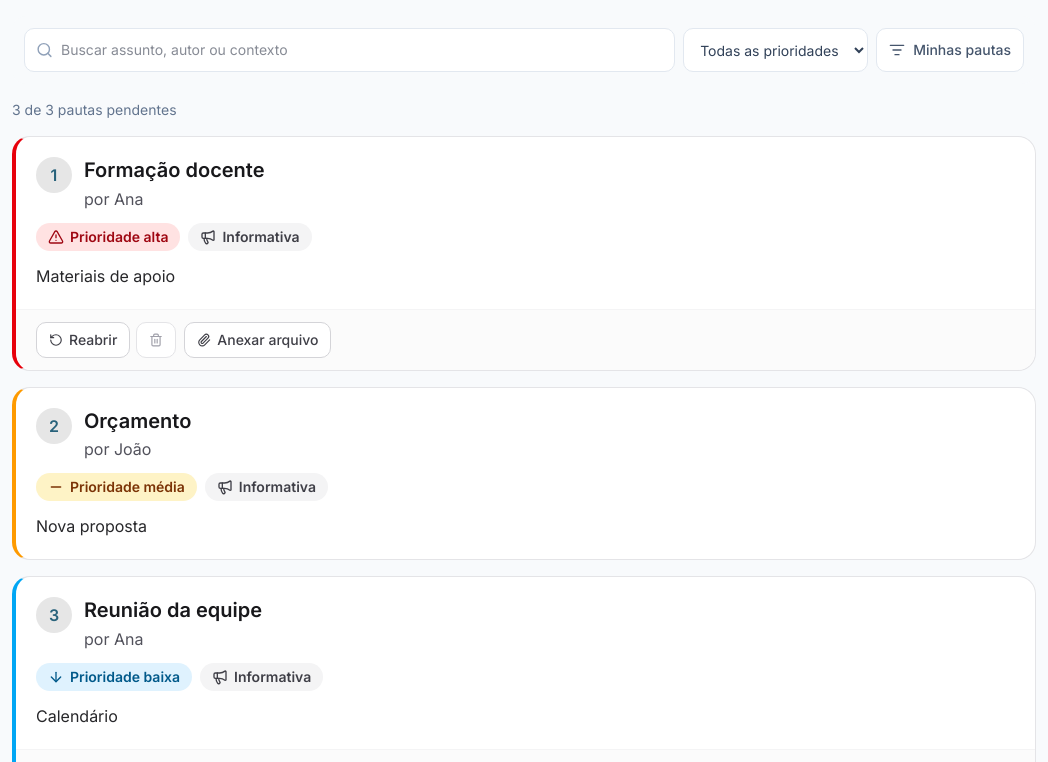
it: busca e filtros das pautas pendentes › combina autoria e prioridade e informa quando não há resultados
Click the button "Minhas pautas": (950, 50) [876,28,1024,72]
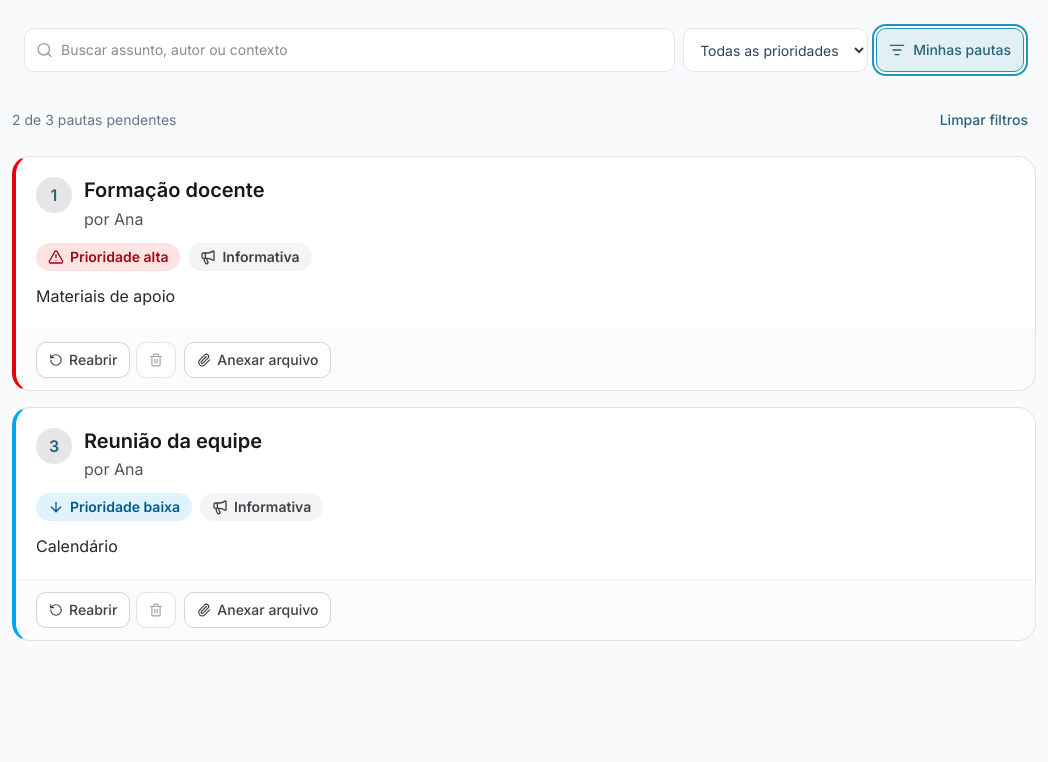
Result: the number of list items is 2 at [12,156,1036,390]; [12,406,1036,641]
Select "Prioridade média" in the dropdown: (776, 50) [683,28,868,72]
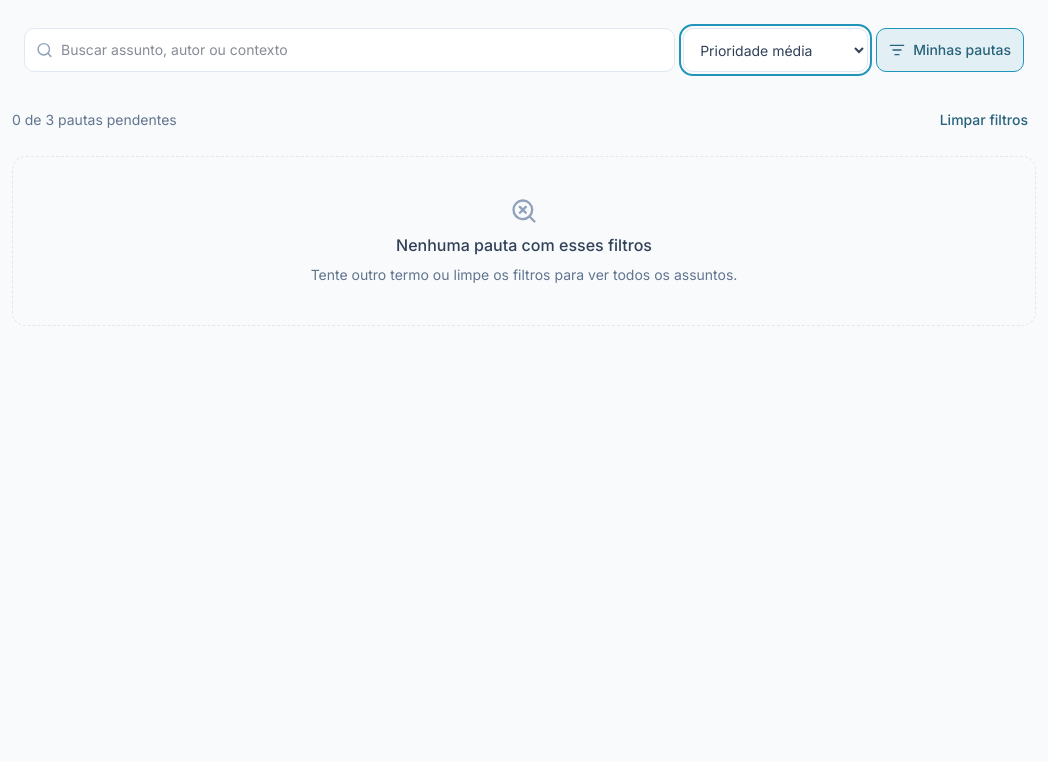
Result: the text "Nenhuma pauta com esses filtros" is shown at [396,233,652,257]
Result: the message shows "0 de 3" at [12,110,177,130]
